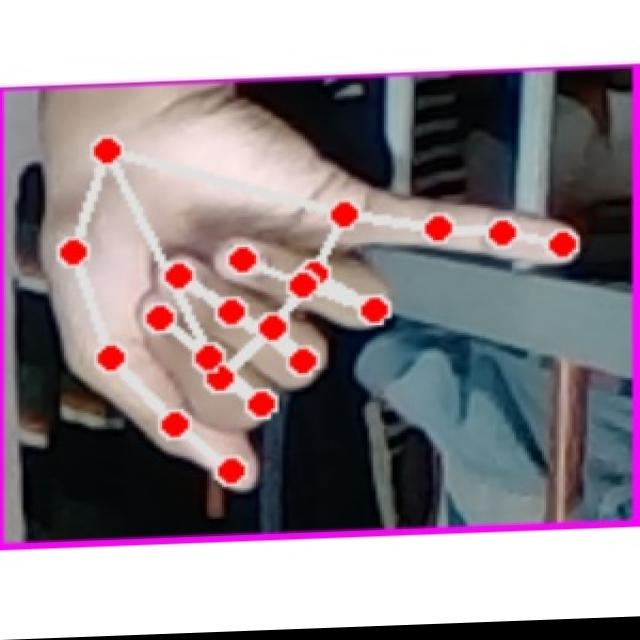J: (27, 96, 596, 515)
